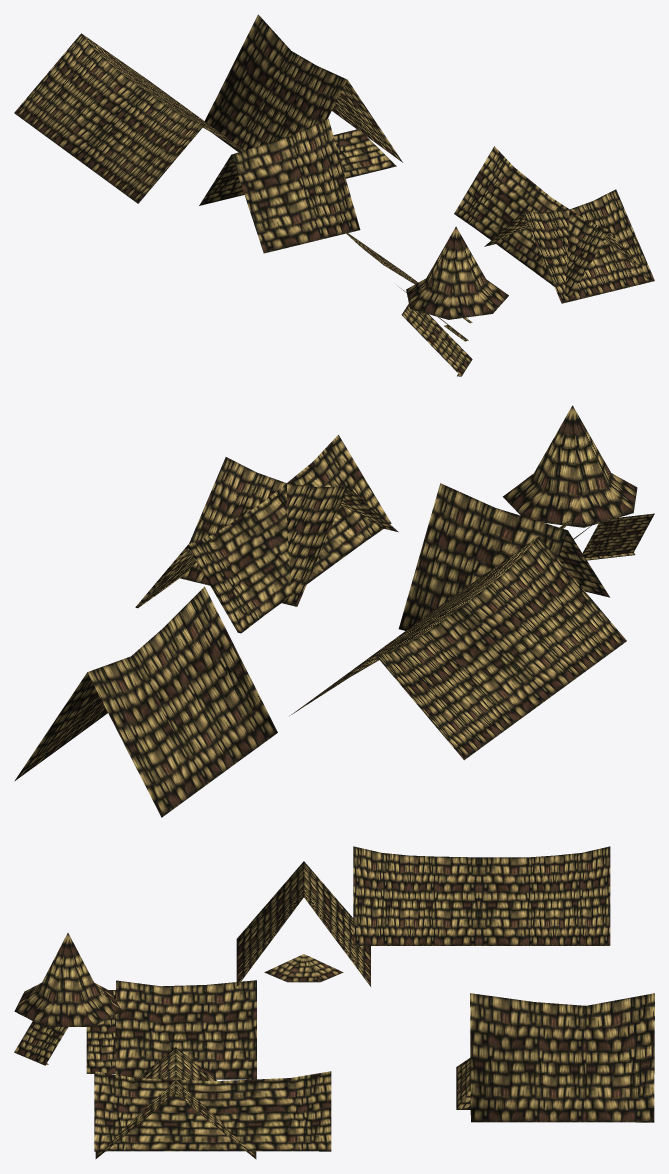
Rendered from LAKETOWN_EXTERIOR_PS_LT_PLANE2938.fbx.
3 views of the same model, one above another, from view 1: azimuth 30°, elevation 25°; view 2: azimuth 150°, elevation 25°; view 3: azimuth 270°, elevation 25° (orthographic). The views are drawn at different scales.
Parts seen in each view (by area): view 1: LAKETOWN_EXTERIOR_PS_LT_PLANE2938; view 2: LAKETOWN_EXTERIOR_PS_LT_PLANE2938; view 3: LAKETOWN_EXTERIOR_PS_LT_PLANE2938.
Part boxes in pixels (x1=…): LAKETOWN_EXTERIOR_PS_LT_PLANE2938: x1=14, y1=14, x2=654, y2=376; LAKETOWN_EXTERIOR_PS_LT_PLANE2938: x1=14, y1=405, x2=654, y2=817; LAKETOWN_EXTERIOR_PS_LT_PLANE2938: x1=14, y1=846, x2=654, y2=1159.
Size of the model in its own units: 206993 by 78083 by 283651.
1 material, 1 textured.
